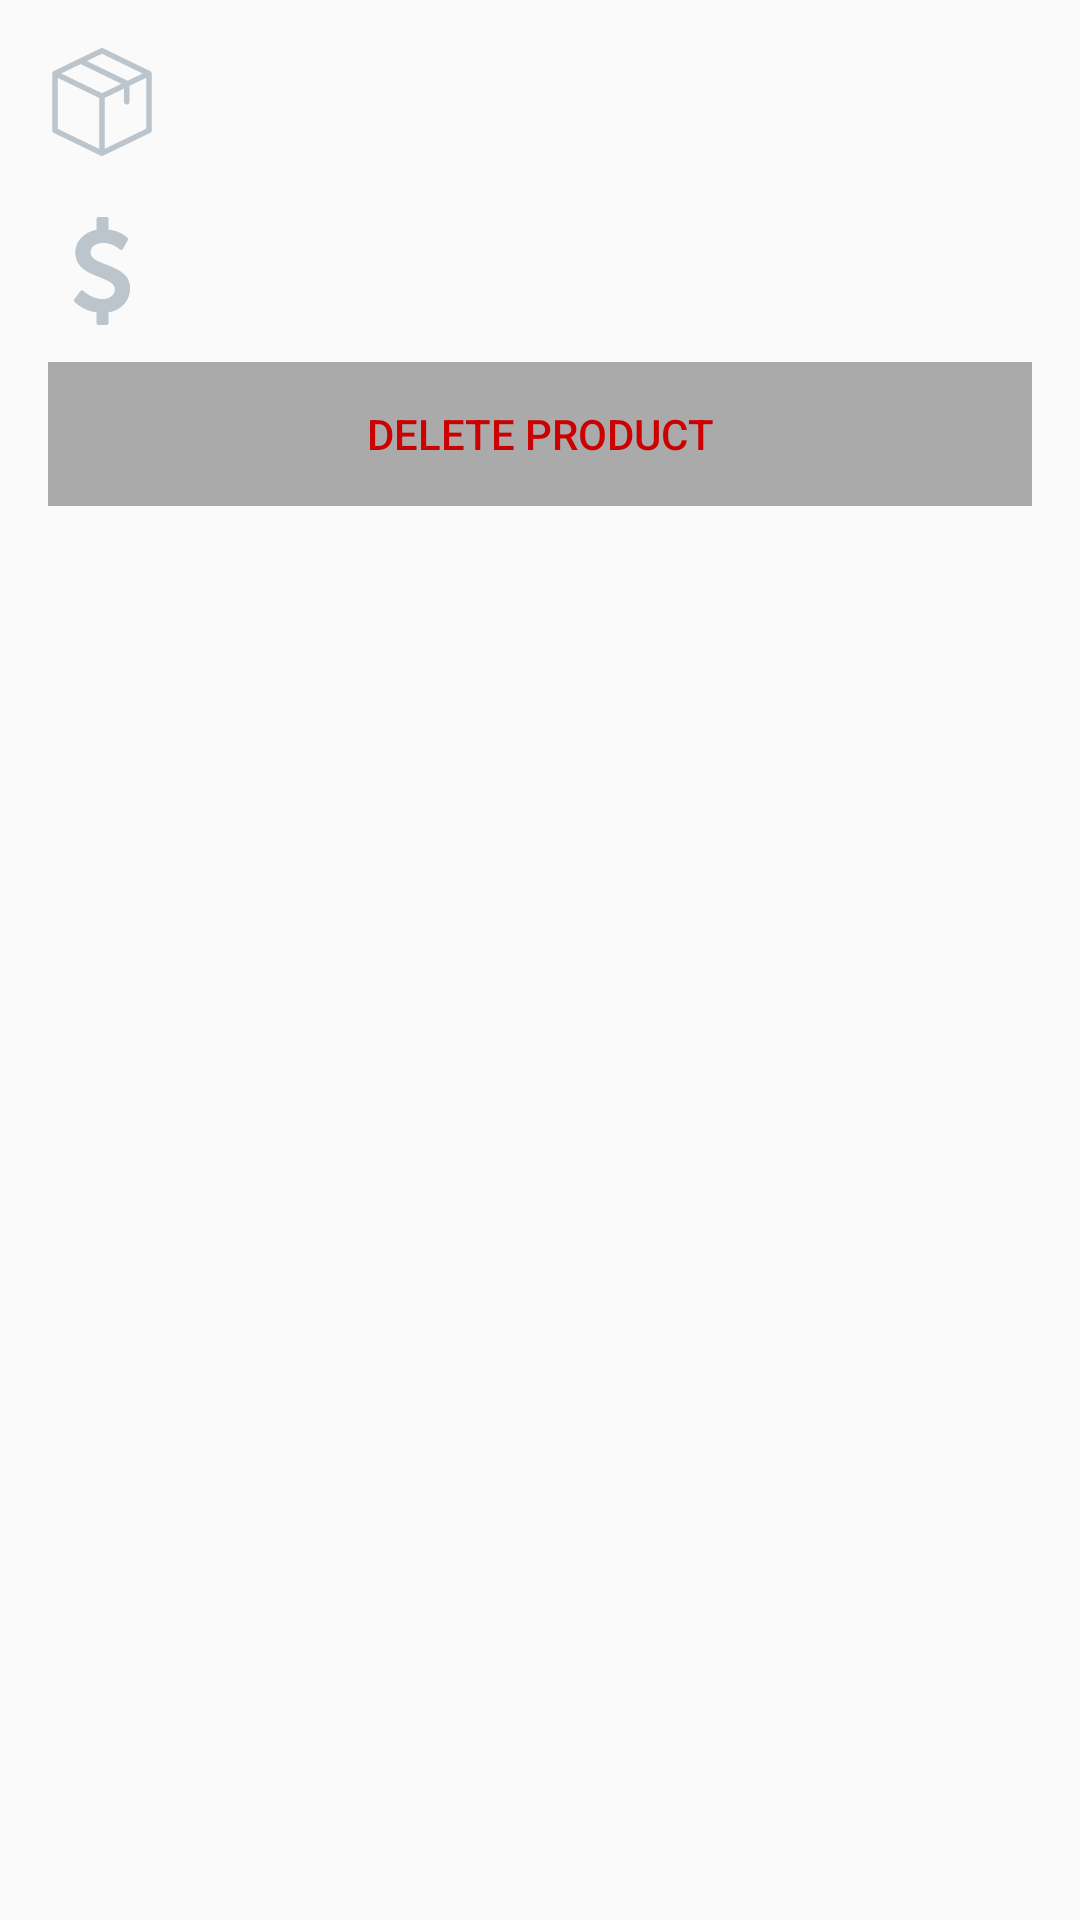

Screen size 1080 × 1920. Icon name, then its box in pixels as [x1, y1, x2, y2]:
dollar symbol: [74, 217, 130, 325]
package: [52, 48, 152, 156]
